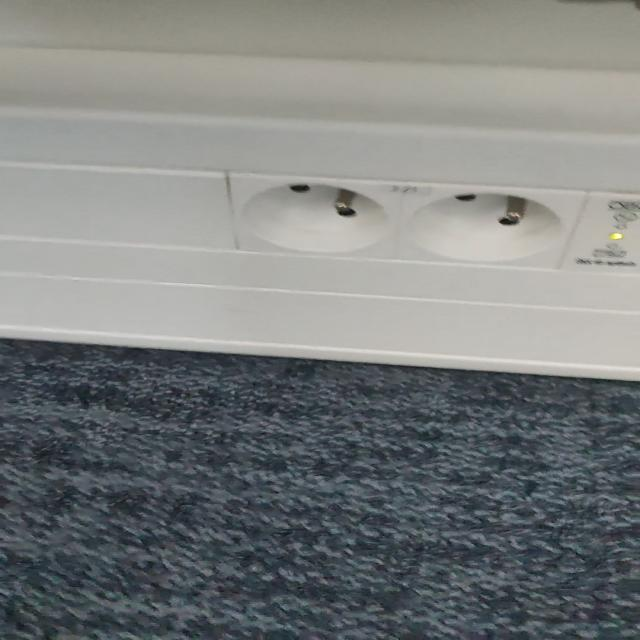house plug: (397, 183, 587, 272), (228, 171, 404, 259)
